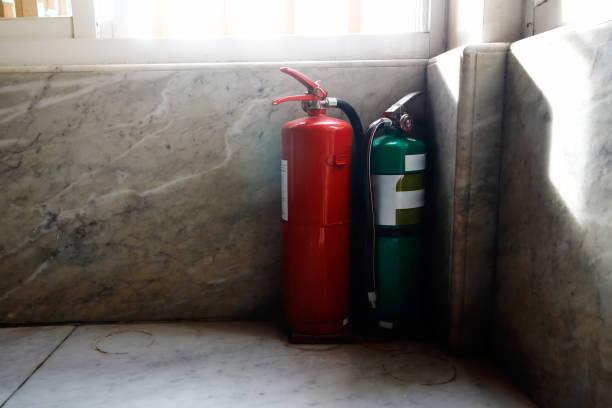floor-kept: (270, 53, 446, 361)
